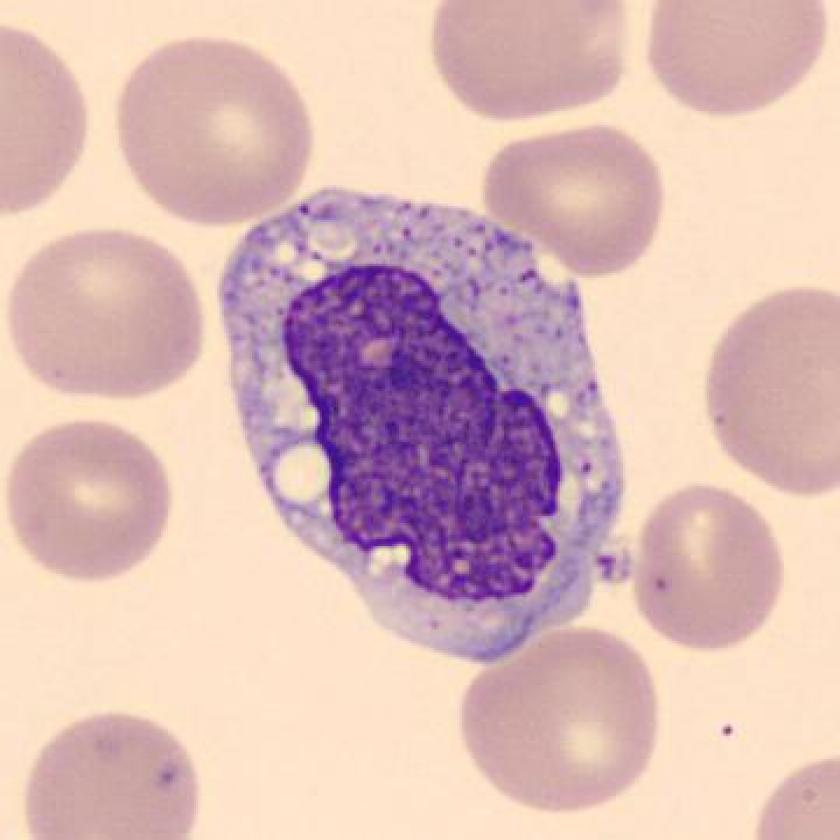monocyte: (195, 168, 652, 684)
